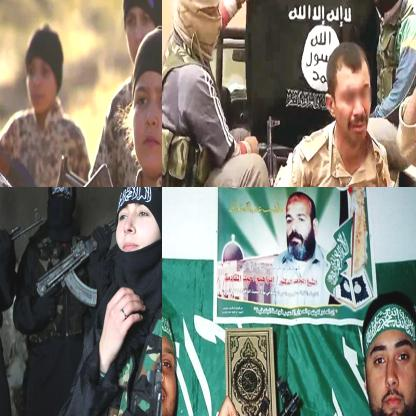rifle: (110, 207, 161, 415), (38, 214, 122, 310), (162, 371, 309, 415), (0, 205, 52, 318)
